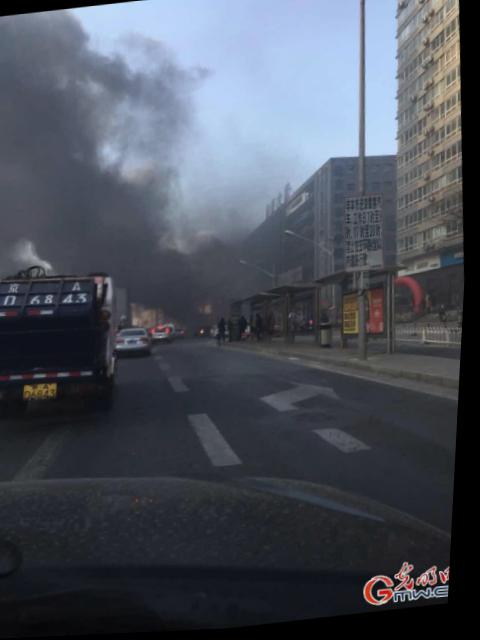smoke: (59, 43, 168, 259), (0, 13, 88, 207), (120, 223, 269, 312)
